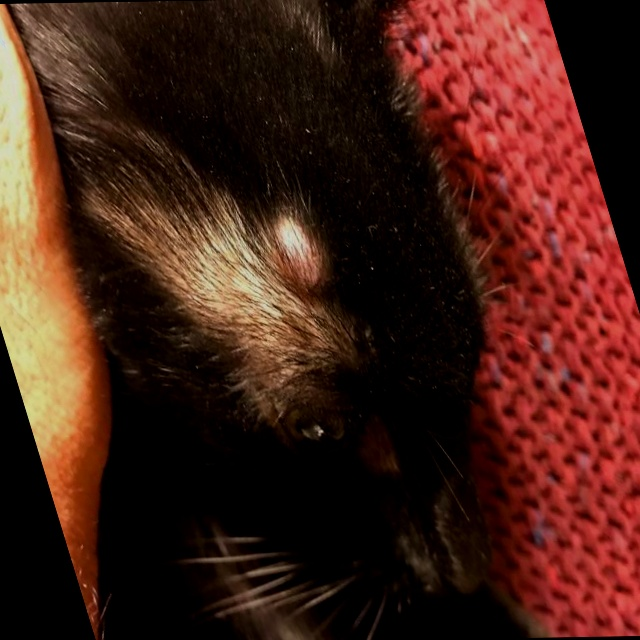lump_and_bump: (260, 218, 331, 282)
